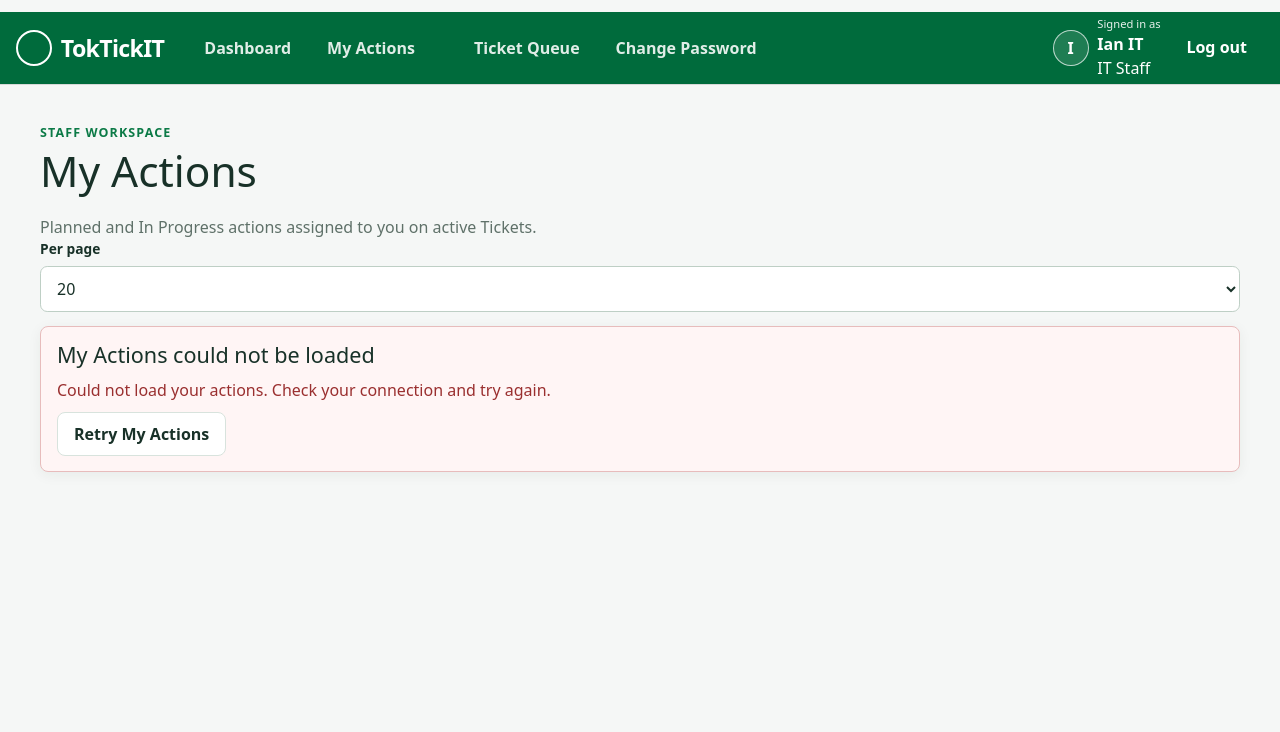
Test case: Staff My Actions UI › retries a recoverable failure once and lets the user retry manually
Expected: the heading "My Actions could not be loaded" is shown, [57,340,375,369]
Step 1. Click the button "Retry My Actions" → (142, 434), box [57,412,226,456]
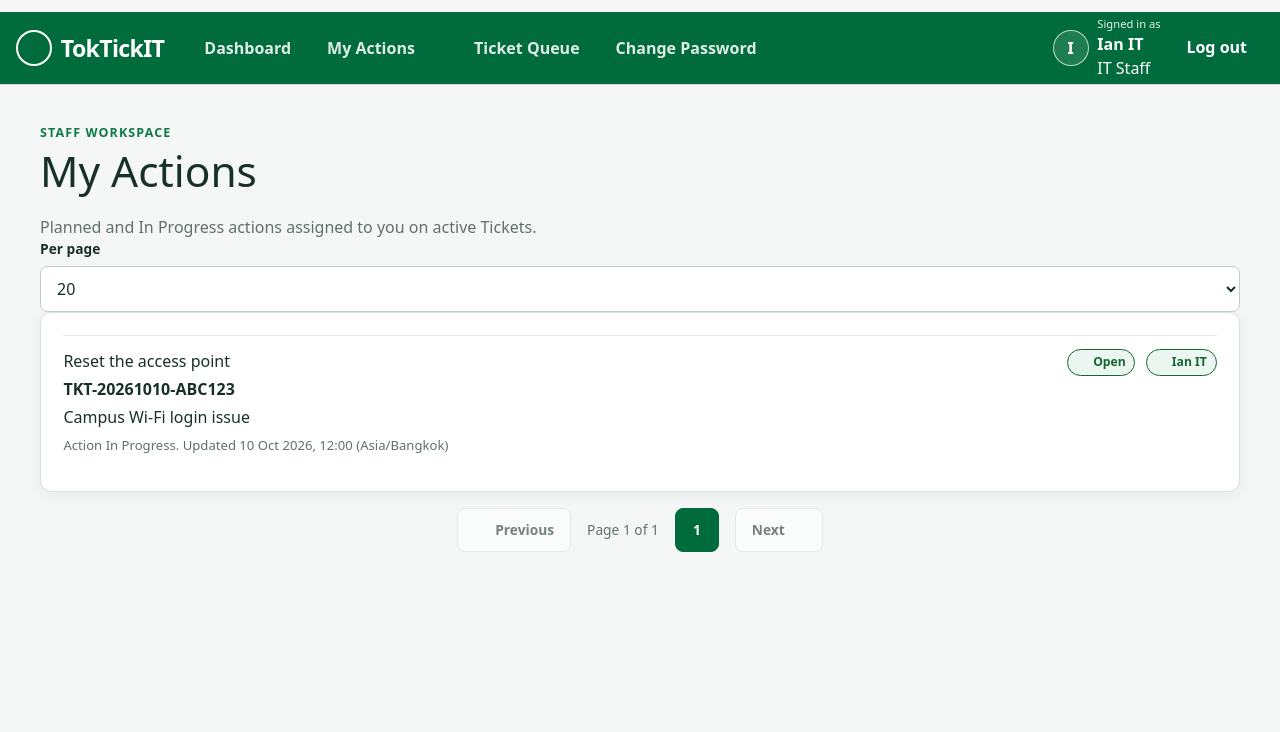
Now the link "Reset the access point" is shown, box [63,349,250,429]
